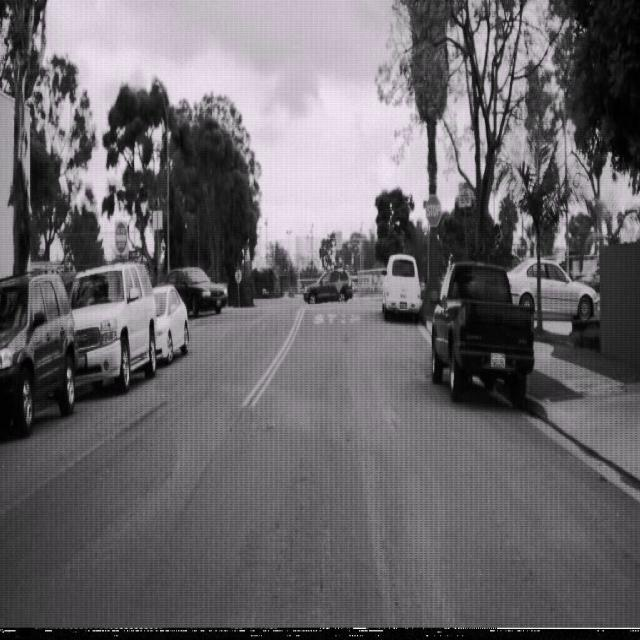stop_sign: (425, 193, 442, 228)
